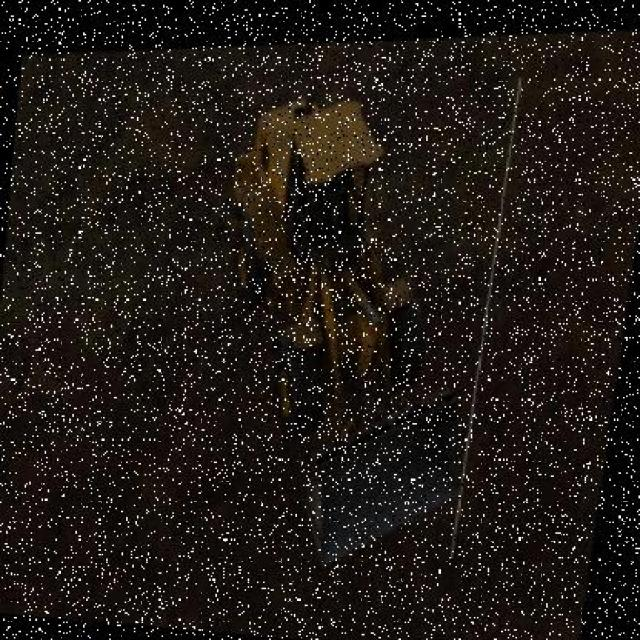buldozerpayloadergrader: (201, 82, 496, 580)
